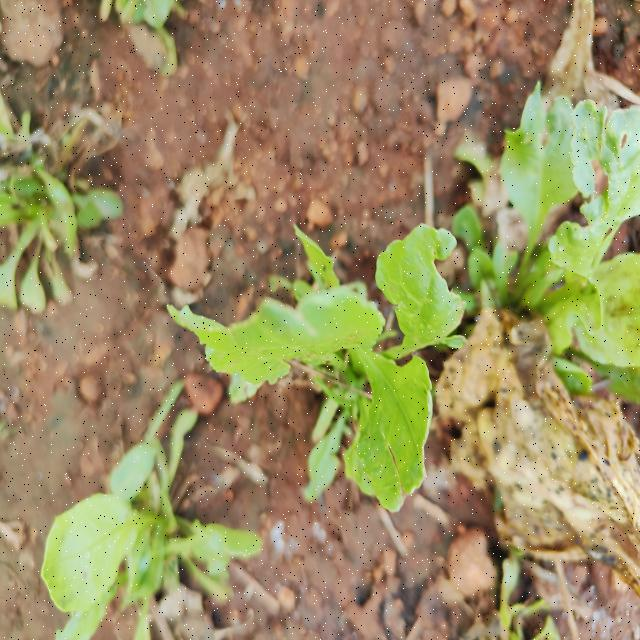leaves: (320, 319, 450, 509), (267, 195, 393, 391), (363, 213, 487, 399), (176, 270, 330, 394), (43, 480, 159, 613)
